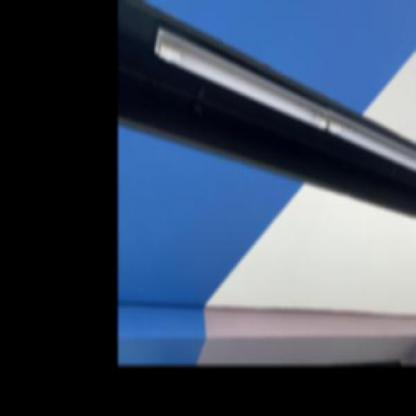light_off: (148, 0, 416, 214)
